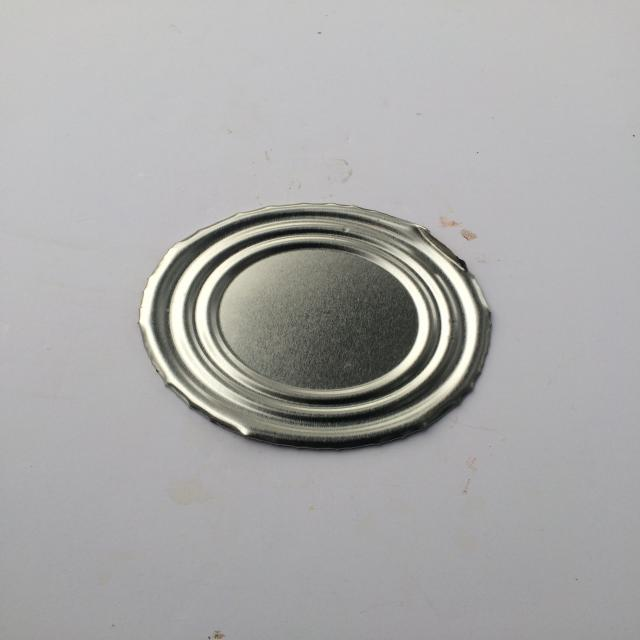metal: (138, 203, 494, 452)
